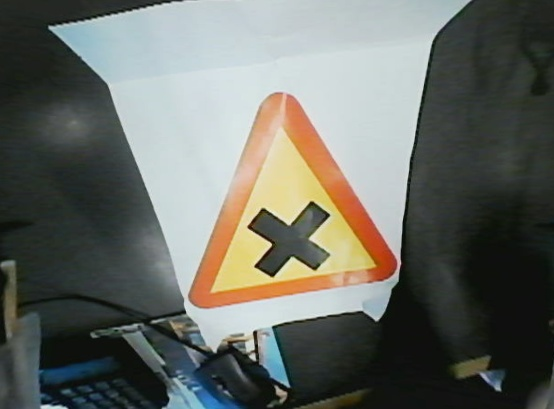junction: (173, 84, 403, 301)
